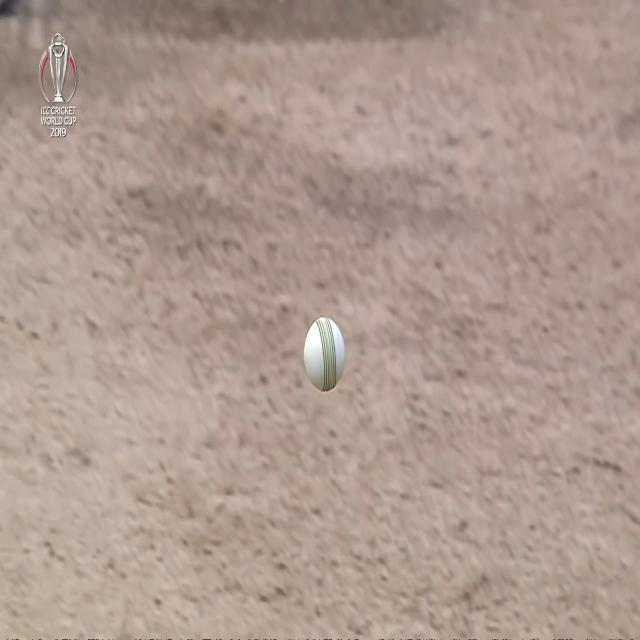Cricket ball: (303, 314, 347, 394)
